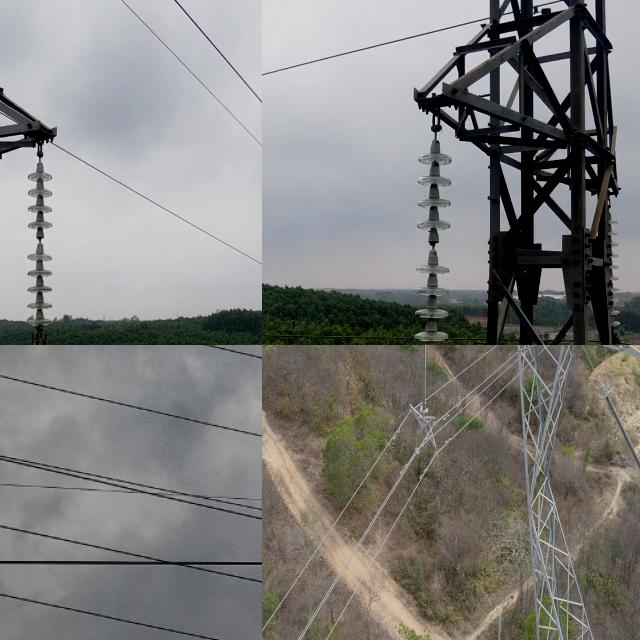杆塔: (417, 0, 626, 345), (515, 345, 640, 640), (0, 0, 67, 345)
正常电缆: (42, 124, 262, 278), (262, 413, 409, 640), (291, 447, 420, 640), (110, 0, 262, 158), (321, 455, 436, 640), (262, 12, 489, 85), (164, 0, 262, 119), (442, 378, 514, 454), (442, 353, 513, 422), (442, 345, 505, 393)
正常绝缘子: (405, 113, 461, 345), (20, 142, 58, 342), (600, 384, 640, 482), (413, 345, 434, 428)
绝缘子破损: (427, 236, 440, 260), (35, 233, 45, 249)
